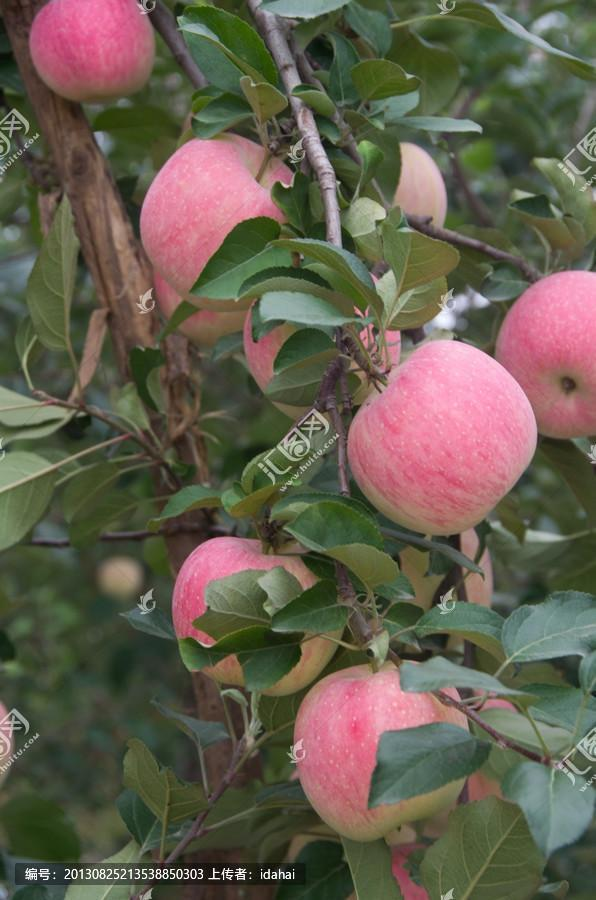apple: (289, 665, 498, 838), (350, 336, 540, 520), (142, 123, 289, 322), (174, 537, 334, 688), (492, 268, 596, 439), (29, 1, 153, 107)
